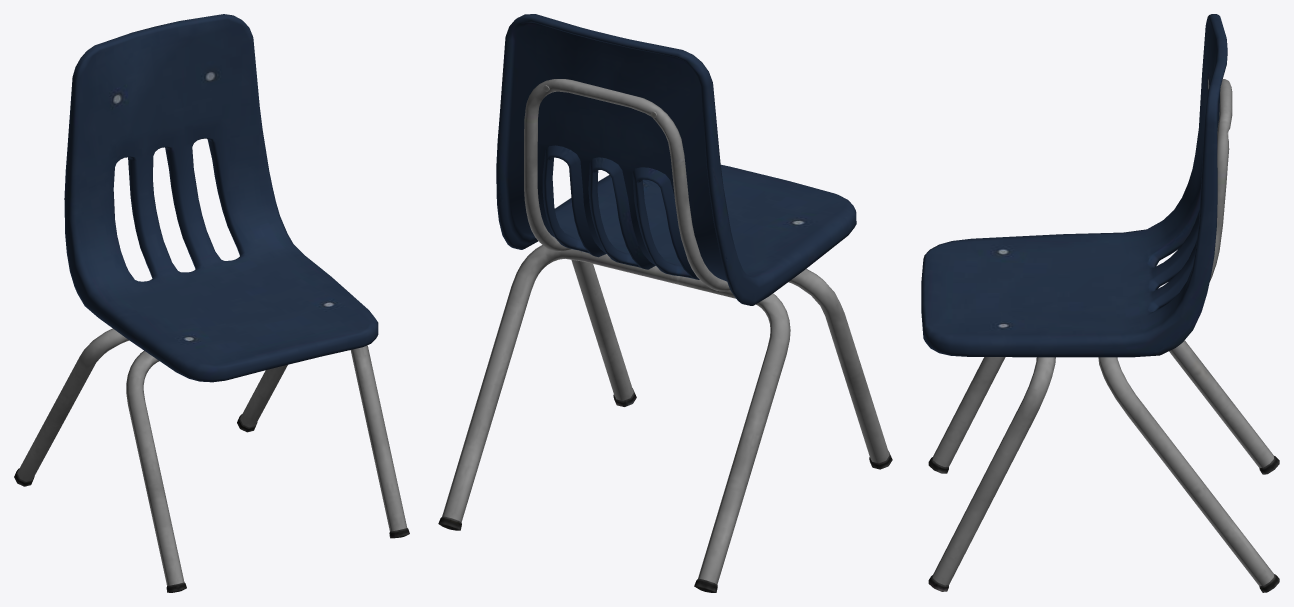
File: ph_schoolchair_01.glb
3 views of the same model, side by side, from view 1: azimuth 30°, elevation 25°; view 2: azimuth 150°, elevation 25°; view 3: azimuth 270°, elevation 25° (orthographic). The views are drawn at different scales.
Visible parts, largest first — view 1: SchoolChair_01; view 2: SchoolChair_01; view 3: SchoolChair_01.
Boxes of the visible parts, box(x1,y1,x2,y2) form: SchoolChair_01: box(14, 14, 409, 592); SchoolChair_01: box(438, 14, 892, 592); SchoolChair_01: box(921, 14, 1279, 592).
Bounding box in the file's own units: 0.5659 × 1.01 × 0.6752.
Materials: 1 (1 with a texture image).
